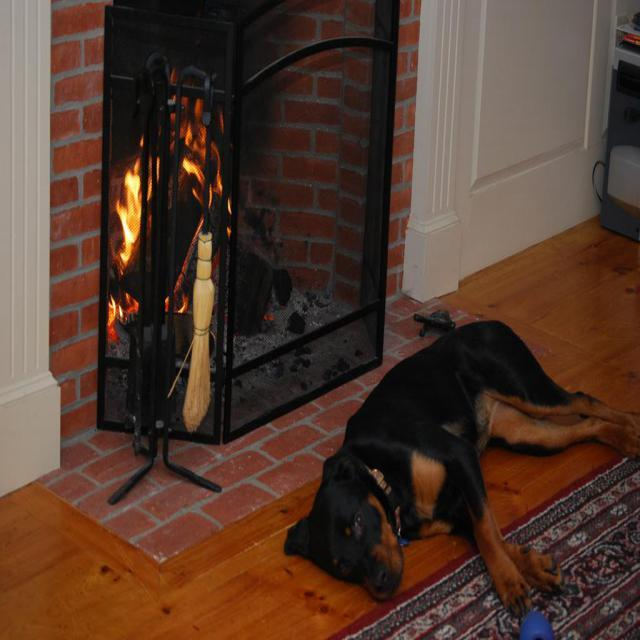Fire: (104, 87, 220, 333)
